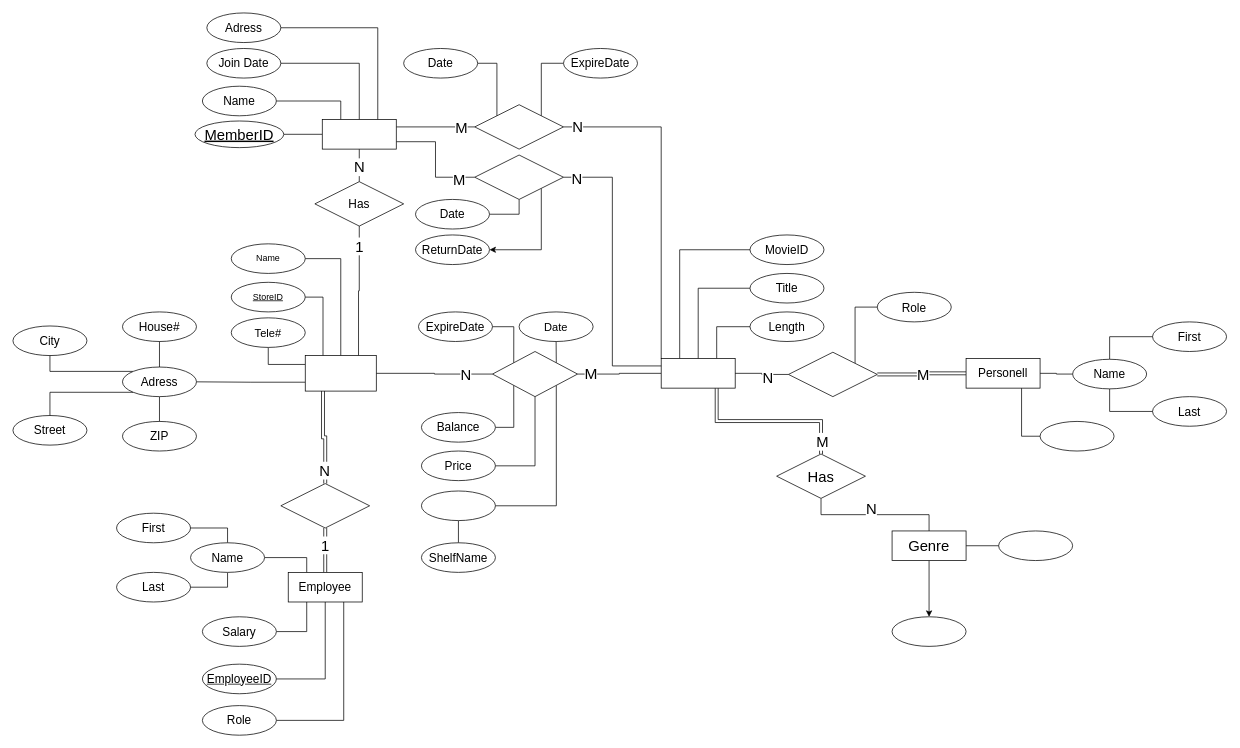
This 1240x748 diagram has some shape labels left out. The centre of each missing label's shape, as x and y in pixels:
"ActorID" goes at (1076,436).
"GenreID" goes at (1035,545).
"GenreName" goes at (928,631).
"Member" goes at (359,134).
"Movie" goes at (697,373).
"Offer" goes at (535,374).
"Rent" goes at (519,176).
"Reserve" goes at (519,126).
"Shelf" goes at (458,505).
"Store" goes at (340,373).
"Work" goes at (325,505).
"Worked" goes at (832,374).
